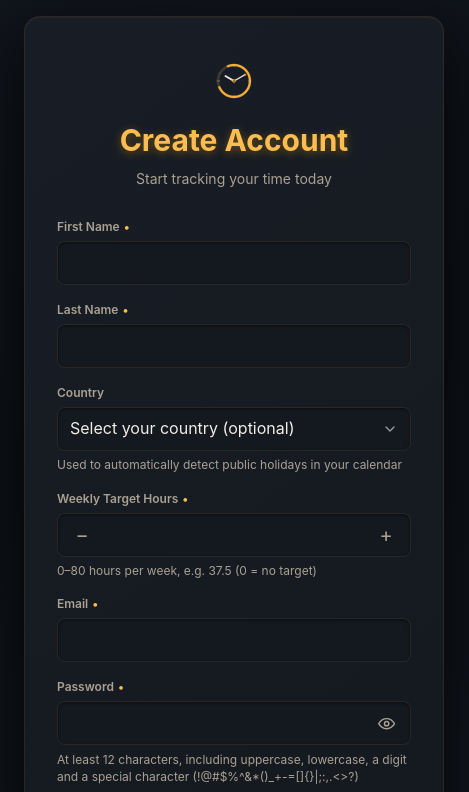
Test: RegisterPage › validates a field on blur
The image size is (469, 792).
Step 1. Click the field labelled "First Name•" → (234, 263), box left=70, top=242, right=398, bottom=284
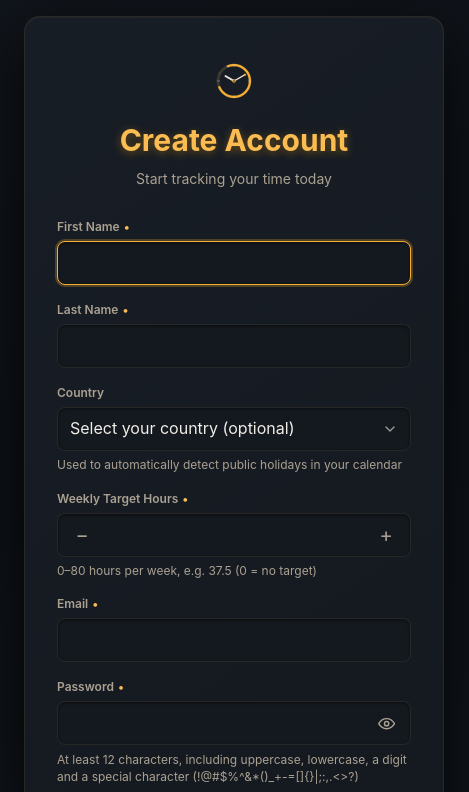
Step 2. Press Tab
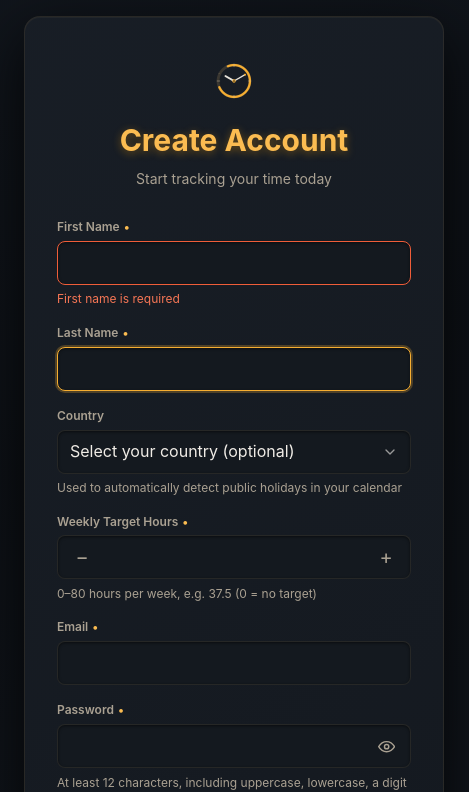
Now the text "First name is required" is shown, box left=57, top=291, right=180, bottom=306
